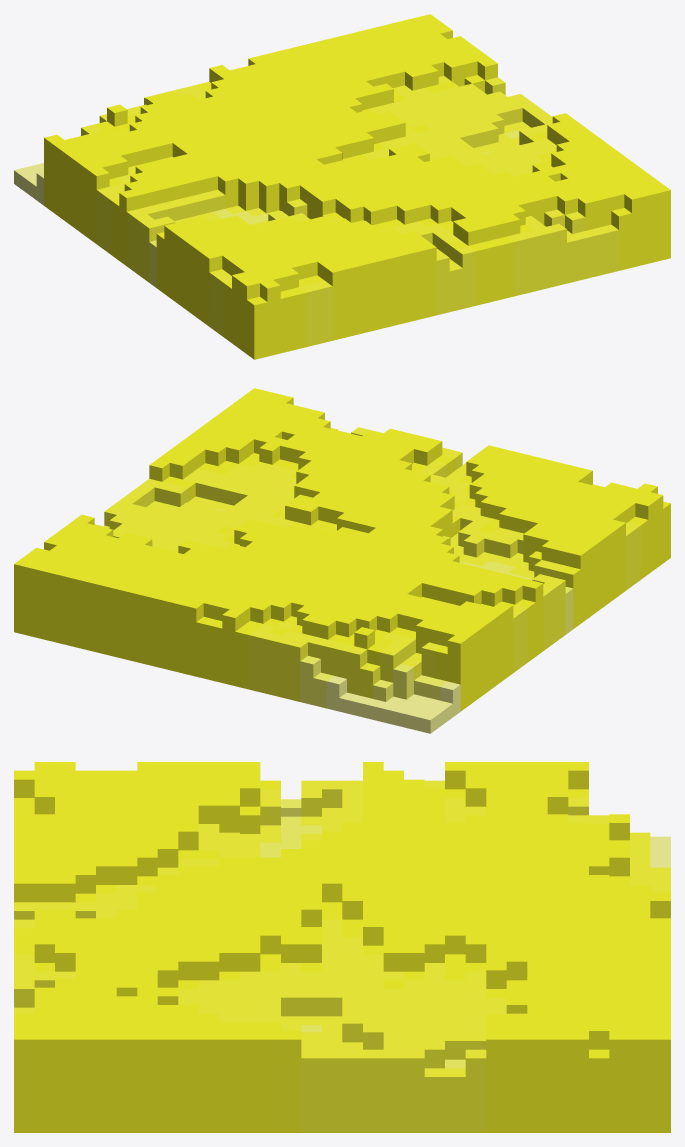
The model's file is Destert Map-22.obj.
3 renders of one model, top to bottom at view 1: azimuth 30°, elevation 25°; view 2: azimuth 150°, elevation 25°; view 3: azimuth 270°, elevation 25°, orthographic. The views are drawn at different scales.
Size of the model in its own units: 3.2 by 0.5 by 3.2.
1 material, 1 textured.
